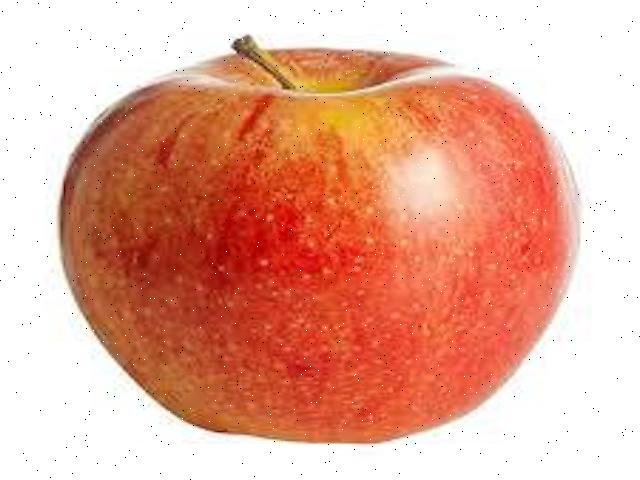apple: (48, 22, 592, 454)
